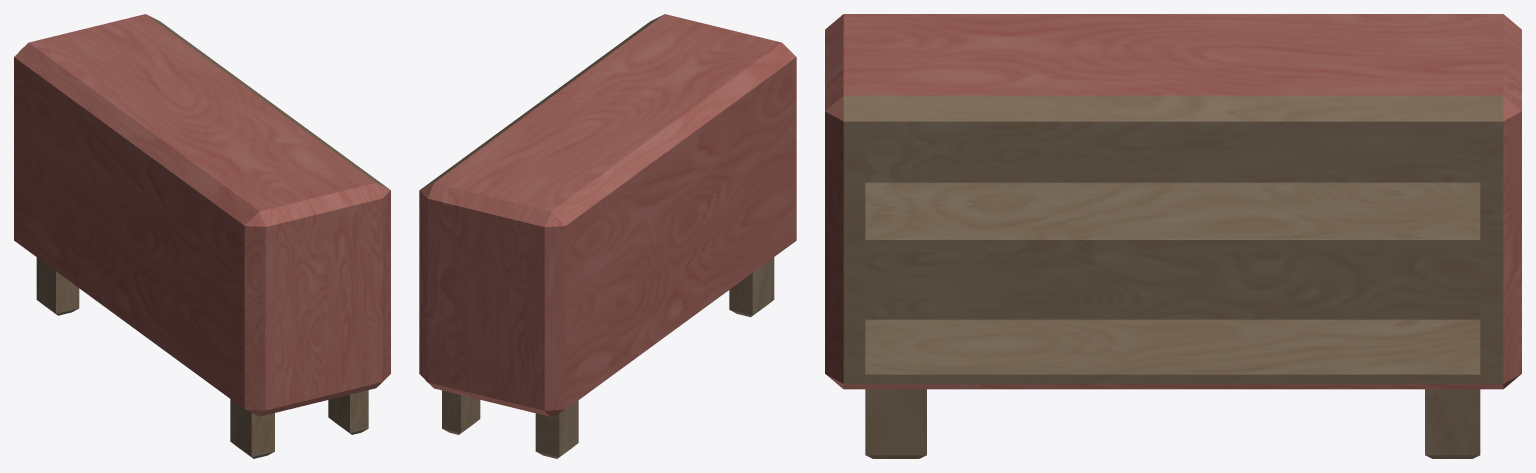
Rendered from Drawer_Frame.fbx.
The picture shows the model from 3 angles, left to right: view 1: azimuth 30°, elevation 25°; view 2: azimuth 150°, elevation 25°; view 3: azimuth 270°, elevation 25°; orthographic projection. The views are drawn at different scales.
Visible parts, largest first — view 1: chestdrawframe; view 2: chestdrawframe; view 3: chestdrawframe.
Part boxes in pixels (<box>): chestdrawframe: <box>14,14,390,458</box>; chestdrawframe: <box>419,14,796,458</box>; chestdrawframe: <box>825,14,1521,458</box>.
Size of the model in its own units: 0.9007 by 1.5 by 2.59.
3 materials, 2 textured.
